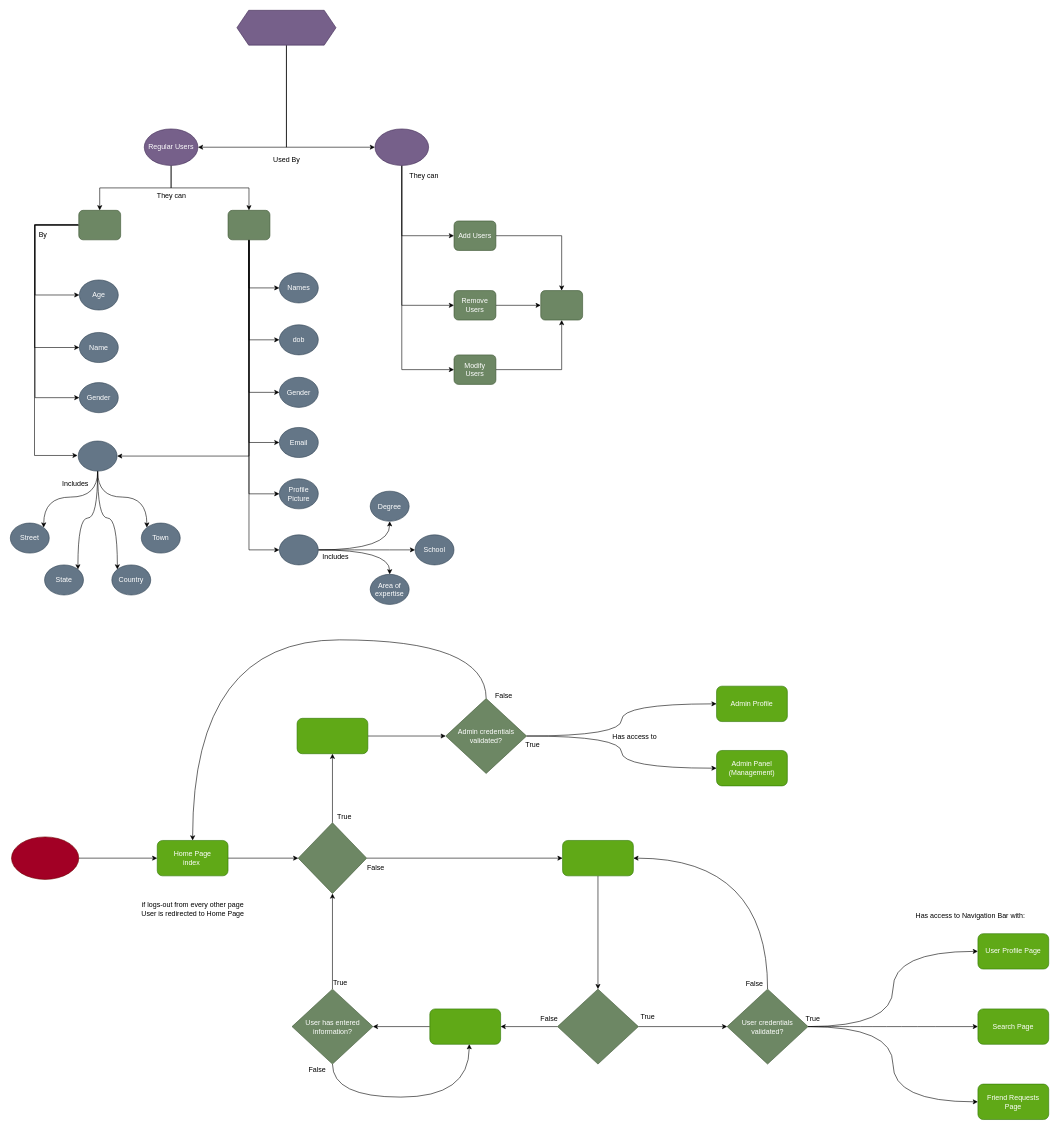
This 1059x1130 diagram has some shape labels left out. The shapes that lost their labels are listed below. From the top down, each one's centre as x and y in pixels, then its label:
(x=286, y=27): Social Network
(x=401, y=146): Admin
(x=99, y=225): Search Friends
(x=248, y=225): Edit their Profiles
(x=561, y=305): And user pictures
(x=97, y=455): Location
(x=298, y=549): Education
(x=332, y=736): Admin Login
(x=45, y=857): START Social Network
(x=332, y=858): is User an admin?
(x=597, y=858): Login Page
(x=465, y=1026): Signup Page
(x=597, y=1026): User has an account?
